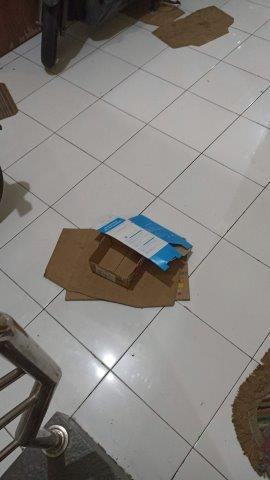kardus: (47, 216, 188, 301), (124, 3, 235, 41)
